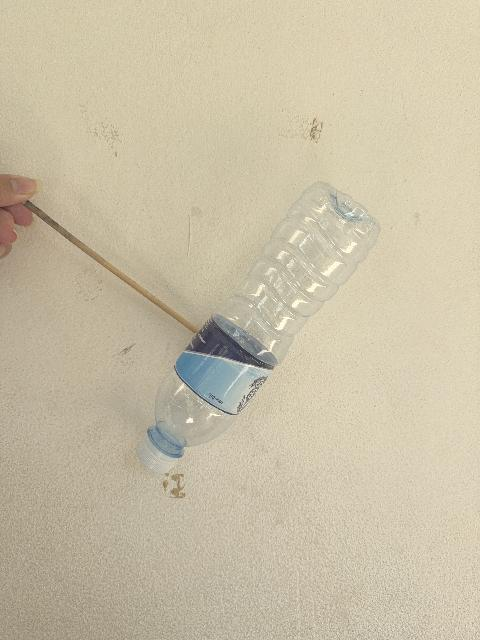bottle: (136, 182, 378, 472)
